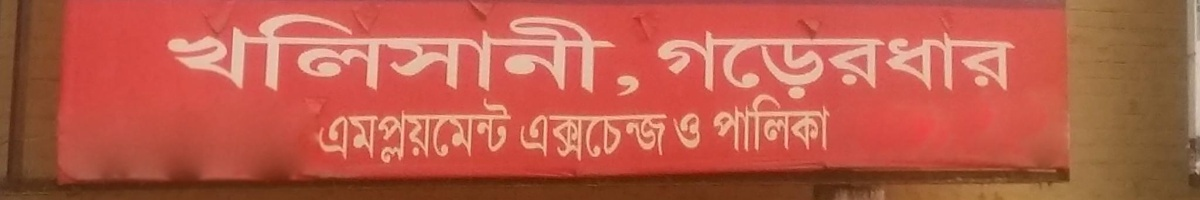text: (177, 9, 192, 98), (193, 9, 208, 98), (209, 9, 224, 98), (225, 9, 240, 98), (241, 9, 256, 98), (257, 9, 272, 98), (273, 9, 288, 98), (289, 9, 304, 98), (305, 9, 320, 98), (321, 9, 336, 98), (337, 9, 352, 98), (353, 9, 368, 98), (369, 9, 384, 98), (385, 9, 400, 98), (401, 9, 416, 98), (417, 9, 432, 98), (433, 9, 448, 98), (449, 9, 464, 98), (465, 9, 480, 98), (481, 9, 496, 98), (497, 9, 512, 98), (513, 9, 528, 98), (529, 9, 544, 98), (545, 9, 560, 98), (561, 9, 576, 98), (577, 9, 592, 98), (593, 9, 608, 98), (609, 9, 624, 98), (625, 9, 640, 98), (657, 22, 672, 102), (673, 22, 688, 102), (689, 22, 704, 102), (705, 22, 720, 102), (721, 22, 736, 102), (737, 22, 752, 102), (753, 22, 768, 102), (769, 22, 784, 102), (785, 22, 800, 102), (801, 22, 816, 102), (817, 22, 832, 102), (833, 22, 848, 102), (849, 22, 864, 102), (865, 22, 880, 102), (881, 22, 896, 102), (897, 22, 912, 102), (913, 22, 928, 102), (929, 22, 944, 102), (945, 22, 960, 102), (961, 22, 976, 102), (977, 22, 992, 102), (993, 22, 1008, 102), (321, 95, 336, 167), (337, 95, 352, 167), (353, 95, 368, 167), (369, 95, 384, 167), (385, 95, 400, 167), (401, 95, 416, 167), (417, 95, 432, 167), (433, 95, 448, 167), (449, 95, 464, 167), (465, 95, 480, 167), (481, 95, 496, 167), (497, 95, 512, 167), (641, 9, 653, 98), (721, 88, 736, 153), (737, 88, 752, 153), (753, 88, 768, 153), (769, 88, 784, 153), (785, 88, 800, 153), (801, 88, 816, 153), (817, 88, 832, 153), (1009, 22, 1019, 102), (529, 113, 544, 163), (545, 113, 560, 163), (561, 113, 576, 163), (577, 113, 592, 163), (593, 113, 608, 163), (609, 113, 624, 163), (625, 113, 640, 163), (641, 113, 656, 163), (310, 95, 320, 167), (168, 9, 176, 98), (657, 113, 671, 163), (673, 112, 688, 156), (689, 112, 704, 156), (712, 88, 720, 153), (519, 113, 528, 163), (833, 88, 838, 153), (705, 112, 711, 156), (513, 95, 515, 167), (670, 112, 672, 156)
